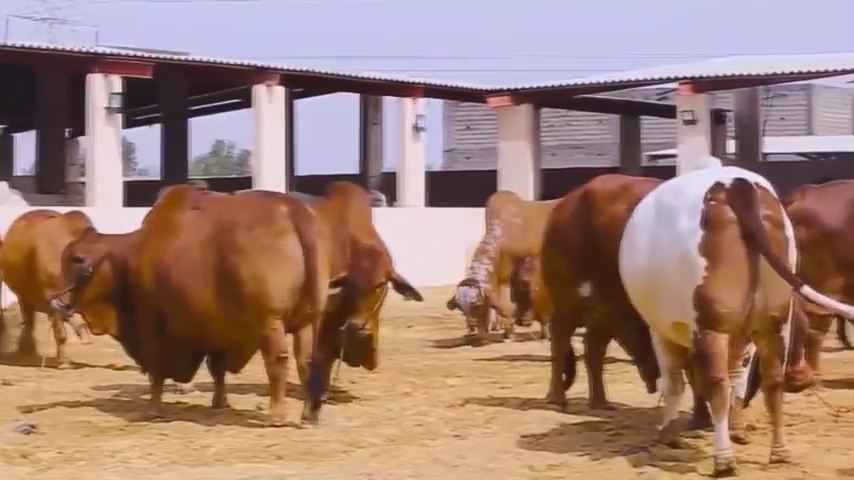bo: (48, 173, 329, 436), (615, 153, 804, 480), (535, 160, 650, 419), (298, 172, 428, 389), (439, 161, 546, 362), (2, 200, 108, 380), (771, 164, 851, 390), (504, 245, 554, 347)
